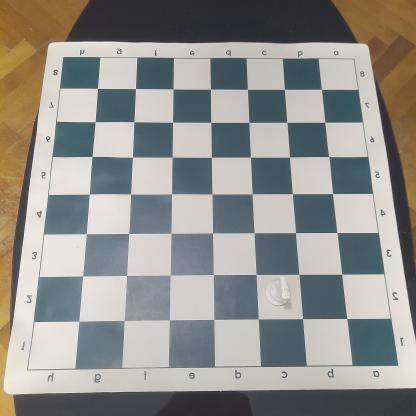white-knight: (264, 274, 291, 308)
